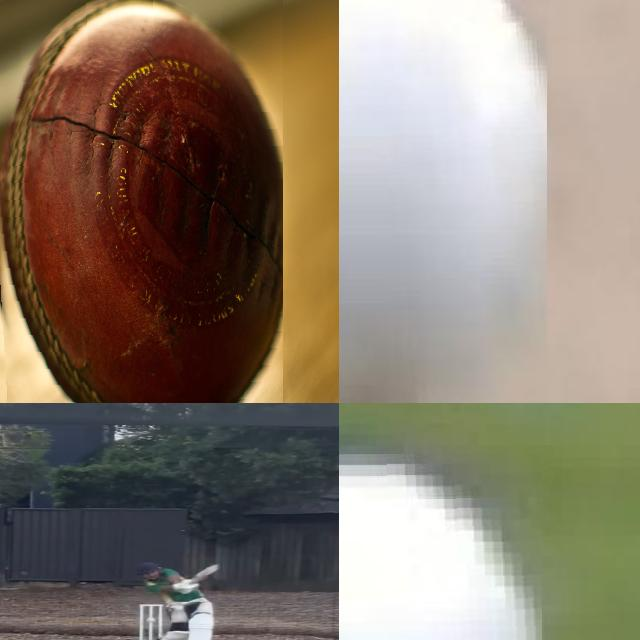Cricket ball: (0, 0, 283, 403), (339, 0, 547, 403), (339, 453, 541, 640), (144, 615, 159, 624)
Stumps: (137, 602, 165, 640)
